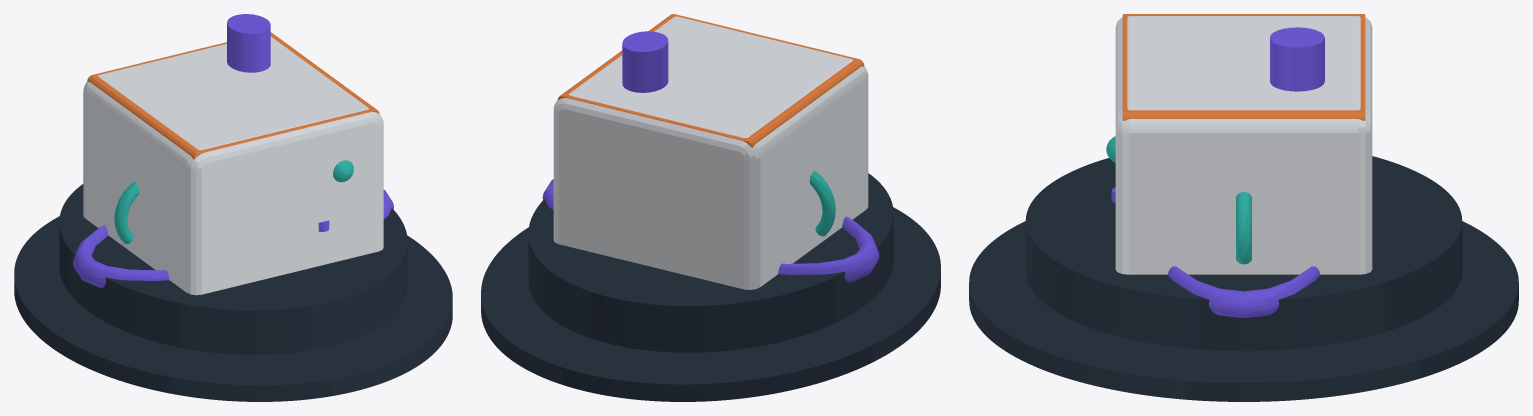
The model's file is 0271_世界古代文明图鉴_抽选机.glb.
The picture shows the model from 3 angles, left to right: view 1: azimuth 30°, elevation 25°; view 2: azimuth 150°, elevation 25°; view 3: azimuth 270°, elevation 25°; orthographic projection. The views are drawn at different scales.
Parts seen in each view (by area): view 1: card_0271; view 2: card_0271; view 3: card_0271.
Boxes of the visible parts, <box> form: card_0271: <box>14,14,452,401</box>; card_0271: <box>481,14,940,401</box>; card_0271: <box>969,14,1518,401</box>.
Bounding box in the file's own units: 1.44 × 1 × 1.66.
